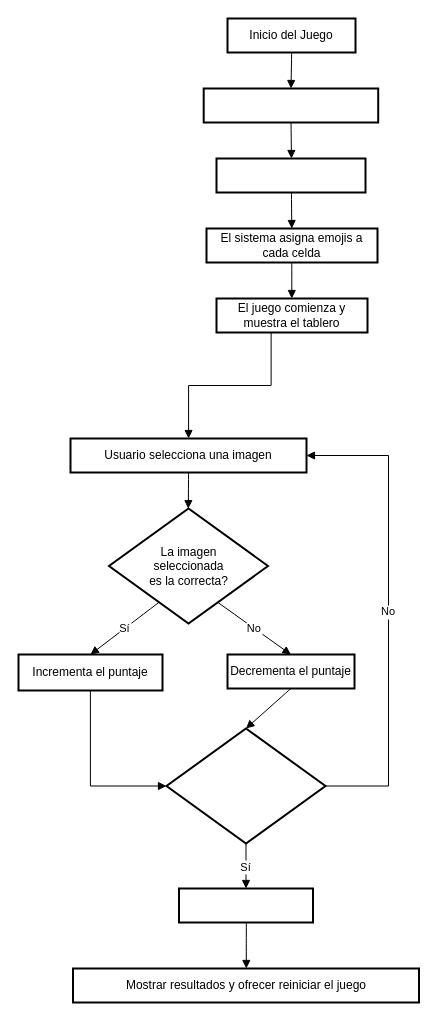
This 437x1020 diagram has some shape labels left out. The shapes that lost their labels are listed below. From the top down, each one's centre as x and y in pixels, then its label:
(290,105): Usuario hace clic en 'Nuevo Juego'
(290,175): El sistema resetea el tablero
(245,785): Es la última oportunidad
(246,905): Finaliza el juego
